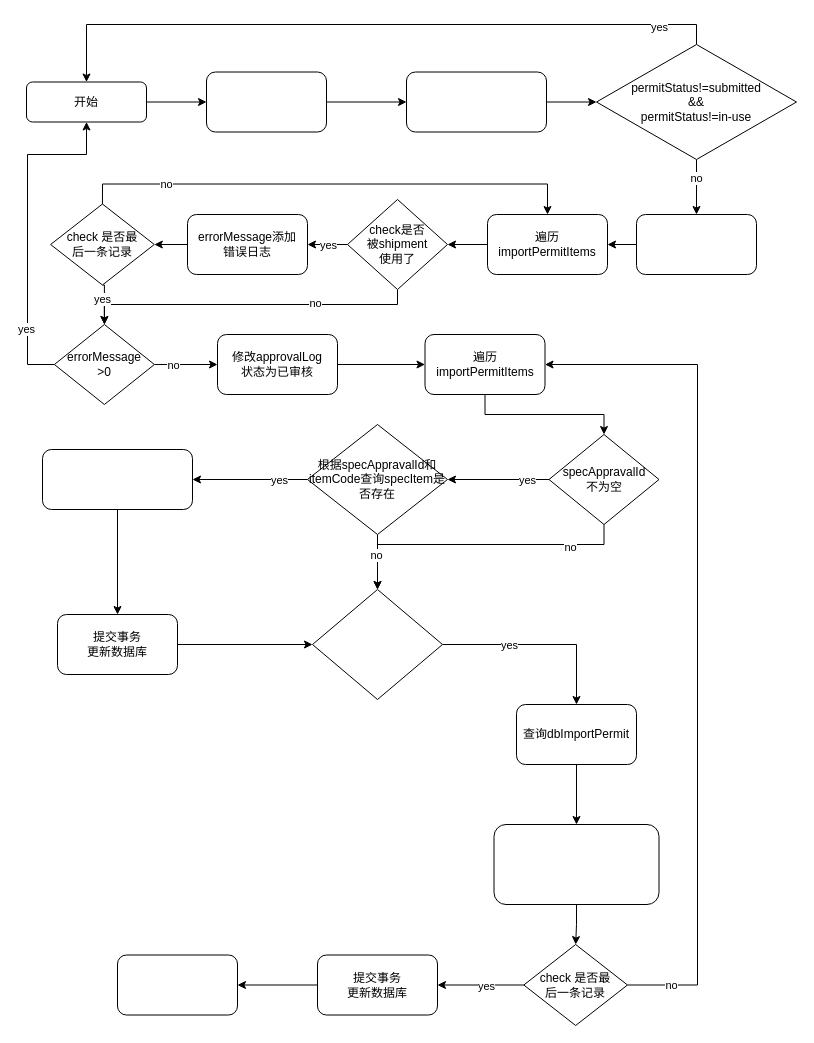
This 814x1043 diagram has some shape labels left out. The shapes that lost their labels are listed below. From the top down, each one's box as (x1, y1, x2, y2) in pixels, then its label:
(206, 71, 326, 132): 查询approvalLog记录
(406, 71, 546, 132): 查询 importPermitApplication
(636, 214, 756, 274): 用 importPermitItemIds 查询permitItem集合
(42, 448, 192, 510): specItem.baleaceQit =specItem.baleaceQit +permitItem.ApplQiy
(312, 588, 442, 700): permitApplStatus == in-use
(493, 824, 659, 904): dbImportPermit的 TotalQuantity-itemApplQIT BalanceQuantity-itemBalanceQit
(116, 954, 238, 1015): end
